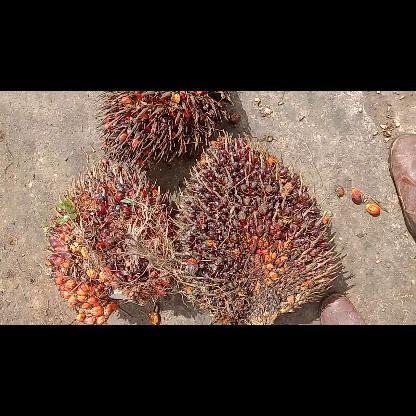Kurang masak: (174, 134, 342, 324)
TBS masak: (46, 160, 176, 324)
Terlalu masak: (98, 91, 240, 169)
